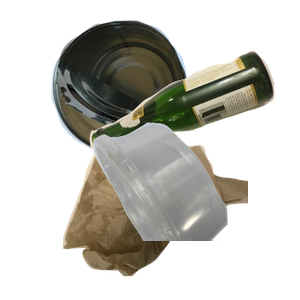glass: (87, 48, 300, 190)
metal: (49, 18, 229, 164)
plastic: (91, 120, 300, 300)
trash: (60, 142, 300, 300)
